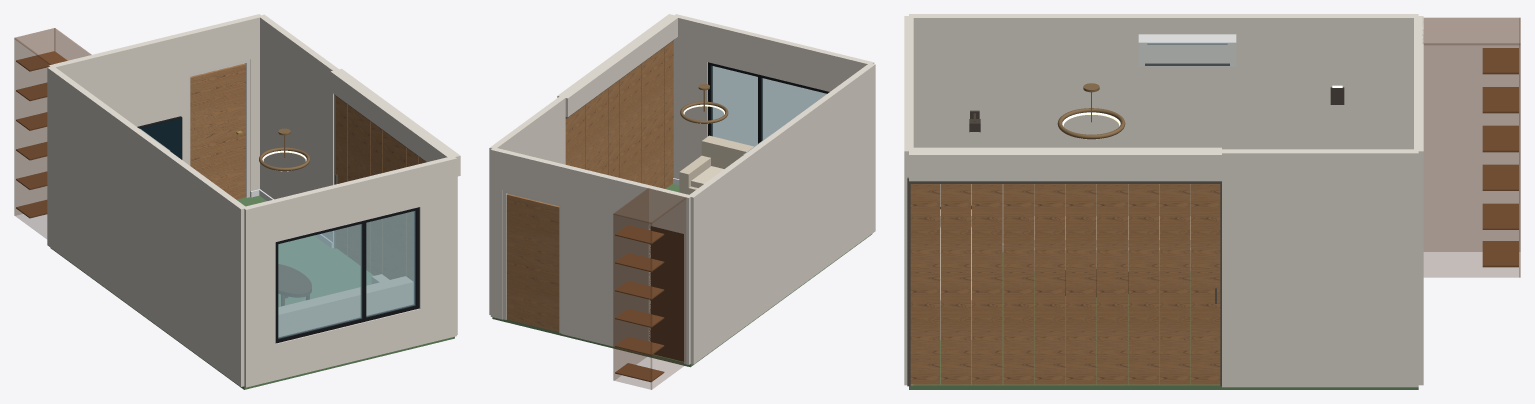
Rendered from source.glb.
3 views of the same model, side by side, from view 1: azimuth 30°, elevation 25°; view 2: azimuth 150°, elevation 25°; view 3: azimuth 270°, elevation 25° (orthographic). The views are drawn at different scales.
Parts seen in each view (by area): view 1: Source mesh 28, Source mesh 7, Source mesh 30, Source mesh 18, Source mesh 13, Source mesh 24, Source mesh 6, Source mesh 66, Source mesh 2, Source mesh 4, Source mesh 1, Source mesh 34 (+29 smaller); view 2: Source mesh 28, Source mesh 18, Source mesh 24, Source mesh 68, Source mesh 66, Source mesh 6, Source mesh 7, Source mesh 13, Source mesh 67, Source mesh 32, Source mesh 30, Source mesh 20 (+31 smaller); view 3: Source mesh 28, Source mesh 30, Source mesh 67, Source mesh 66, Source mesh 32, Source mesh 165, Source mesh 168, Source mesh 169, Source mesh 171, Source mesh 172, Source mesh 166, Source mesh 167 (+19 smaller).
Boxes of the visible parts, x1,y1,x2,y2 form: Source mesh 28: (47, 67, 246, 386); Source mesh 7: (278, 211, 415, 338); Source mesh 30: (260, 14, 338, 247); Source mesh 18: (92, 32, 187, 163); Source mesh 13: (417, 156, 456, 344); Source mesh 24: (190, 63, 245, 199); Source mesh 6: (272, 165, 420, 241); Source mesh 66: (14, 38, 51, 238); Source mesh 2: (243, 200, 275, 387); Source mesh 4: (275, 308, 420, 380); Source mesh 1: (50, 195, 454, 389); Source mesh 34: (278, 276, 413, 336); Source mesh 28: (688, 63, 875, 364); Source mesh 18: (561, 164, 651, 346); Source mesh 24: (506, 194, 559, 332); Source mesh 68: (613, 213, 651, 389); Source mesh 66: (651, 197, 685, 389); Source mesh 6: (707, 22, 845, 91); Source mesh 7: (711, 66, 826, 146); Source mesh 13: (673, 14, 710, 179); Source mesh 67: (613, 188, 648, 380); Source mesh 32: (557, 14, 677, 117); Source mesh 30: (489, 96, 565, 314); Source mesh 20: (502, 150, 564, 203); Source mesh 28: (909, 14, 1418, 243); Source mesh 30: (1222, 149, 1418, 387); Source mesh 67: (1423, 43, 1520, 277); Source mesh 66: (1424, 18, 1519, 251); Source mesh 32: (909, 147, 1221, 181); Source mesh 165: (940, 184, 971, 384); Source mesh 168: (1034, 184, 1065, 384); Source mesh 169: (1065, 184, 1096, 384); Source mesh 171: (1128, 184, 1159, 384); Source mesh 172: (1159, 184, 1190, 384); Source mesh 166: (972, 184, 1002, 384); Source mesh 167: (1003, 184, 1033, 384).
Bounding box in the file's own units: 3.49 × 2.76 × 6.45.
Materials: 175 (11 with a texture image).
